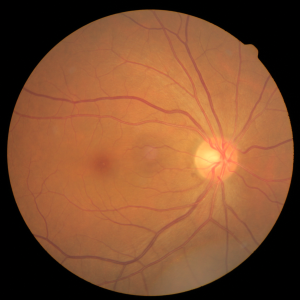healthy_eye: (46, 96, 266, 218)
